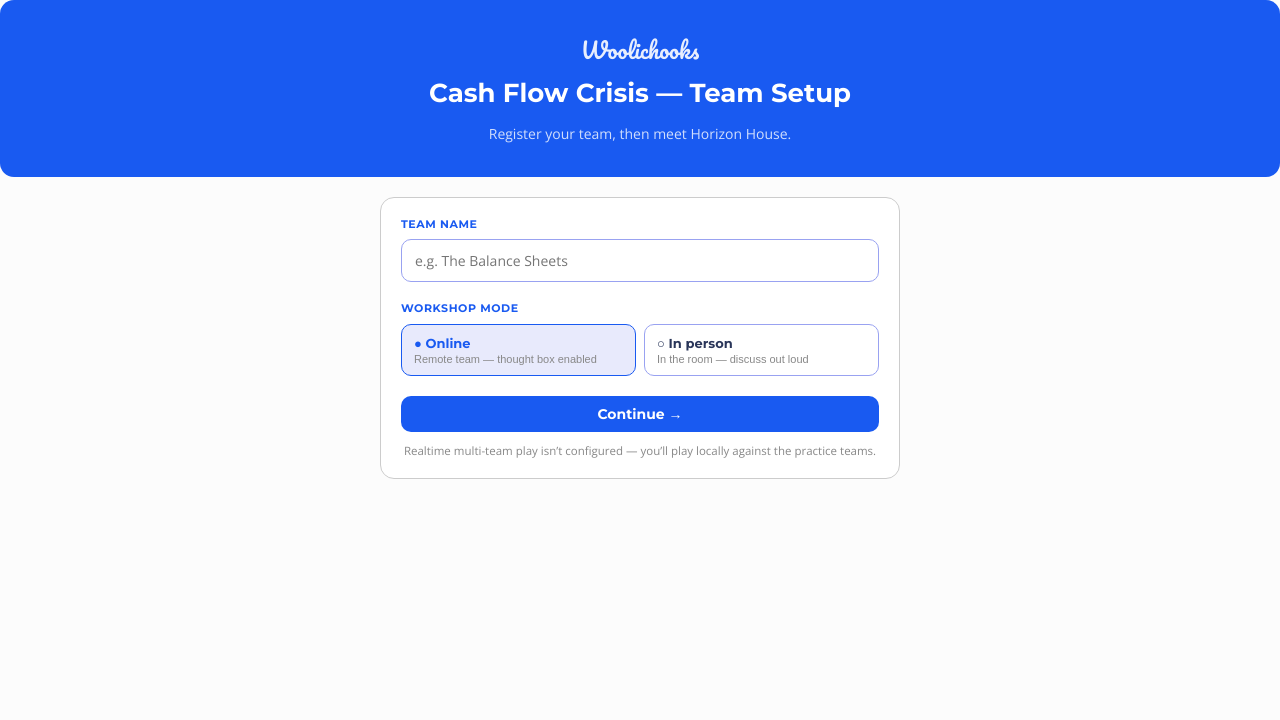
Test: Setup (local mode) › requires a team name before continuing
The image size is (1280, 720).
Click the button "Continue →". click: (640, 414)
box: [401, 396, 879, 432]
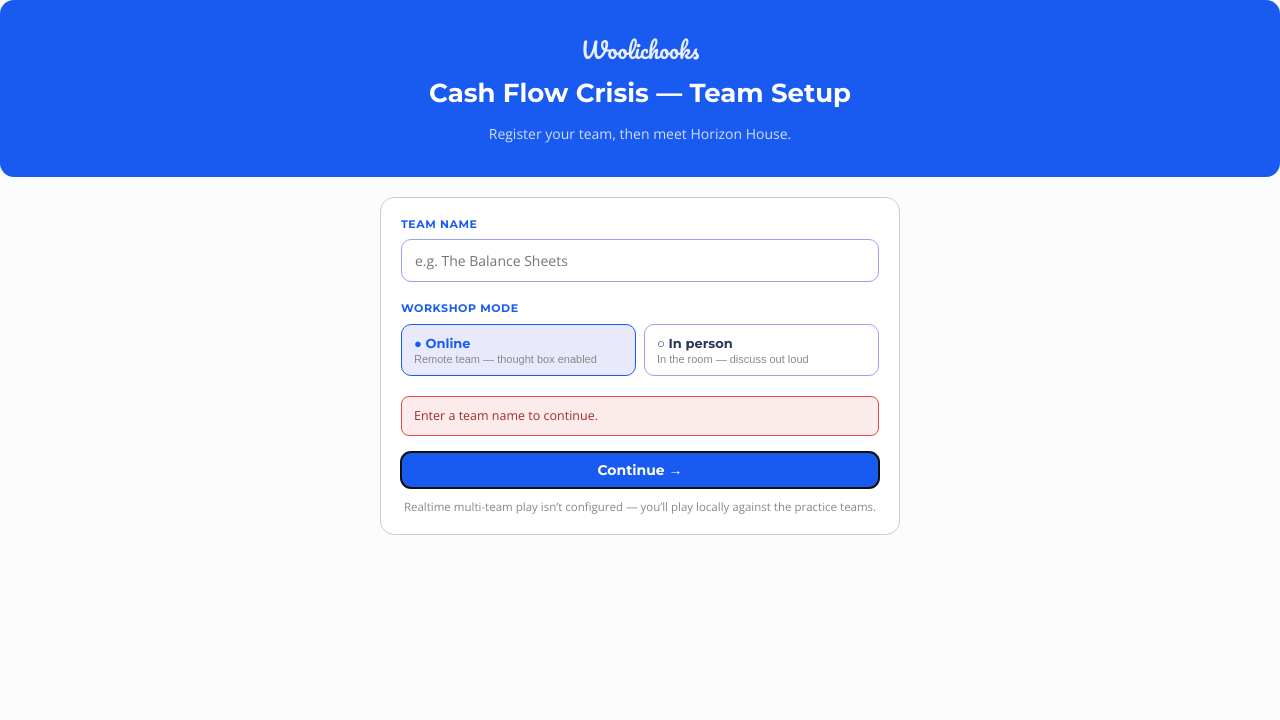
Now the text "Enter a team name to continue." is shown, box [401, 396, 879, 436]
